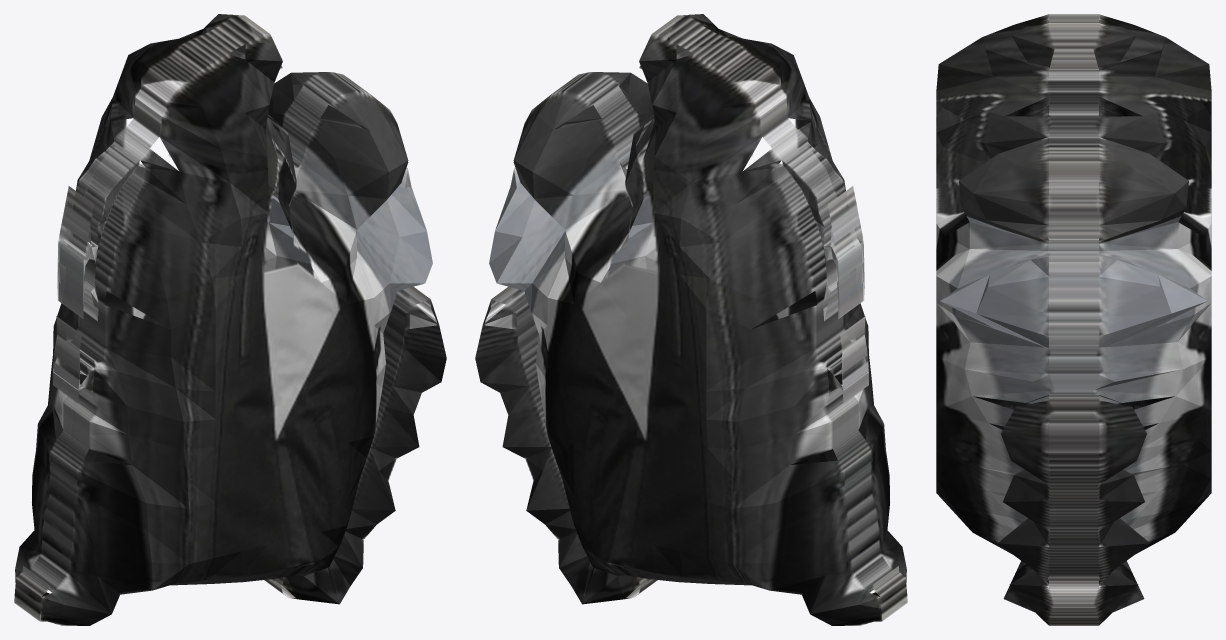
The model's file is tcx-circuit-touring-jacket-023.glb.
The picture shows the model from 3 angles, left to right: view 1: azimuth 30°, elevation 25°; view 2: azimuth 150°, elevation 25°; view 3: azimuth 270°, elevation 25°; orthographic projection. The views are drawn at different scales.
Visible parts, largest first — view 1: world; view 2: world; view 3: world.
Boxes of the visible parts, x1,y1,x2,y2 form: world: [14, 14, 446, 625]; world: [475, 14, 907, 625]; world: [936, 14, 1211, 625].
Bounding box in the file's own units: 0.712 × 1 × 0.44.
1 material, 1 textured.
